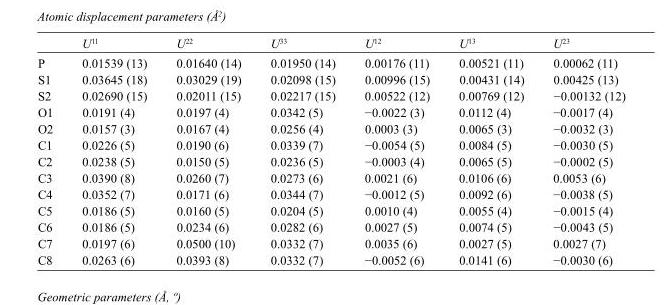table: (36, 36, 624, 266)
table column: (66, 36, 161, 266), (161, 36, 255, 266), (255, 36, 349, 266), (349, 36, 443, 266), (443, 36, 537, 266), (537, 36, 624, 266), (36, 36, 66, 266)
table column header: (36, 36, 624, 52)
table row: (36, 52, 624, 71), (36, 103, 624, 120), (36, 136, 624, 153), (36, 185, 624, 202), (36, 218, 624, 235), (36, 36, 624, 52), (36, 71, 624, 87), (36, 87, 624, 103), (36, 120, 624, 136), (36, 153, 624, 169), (36, 169, 624, 185), (36, 202, 624, 218), (36, 235, 624, 251), (36, 251, 624, 266)
